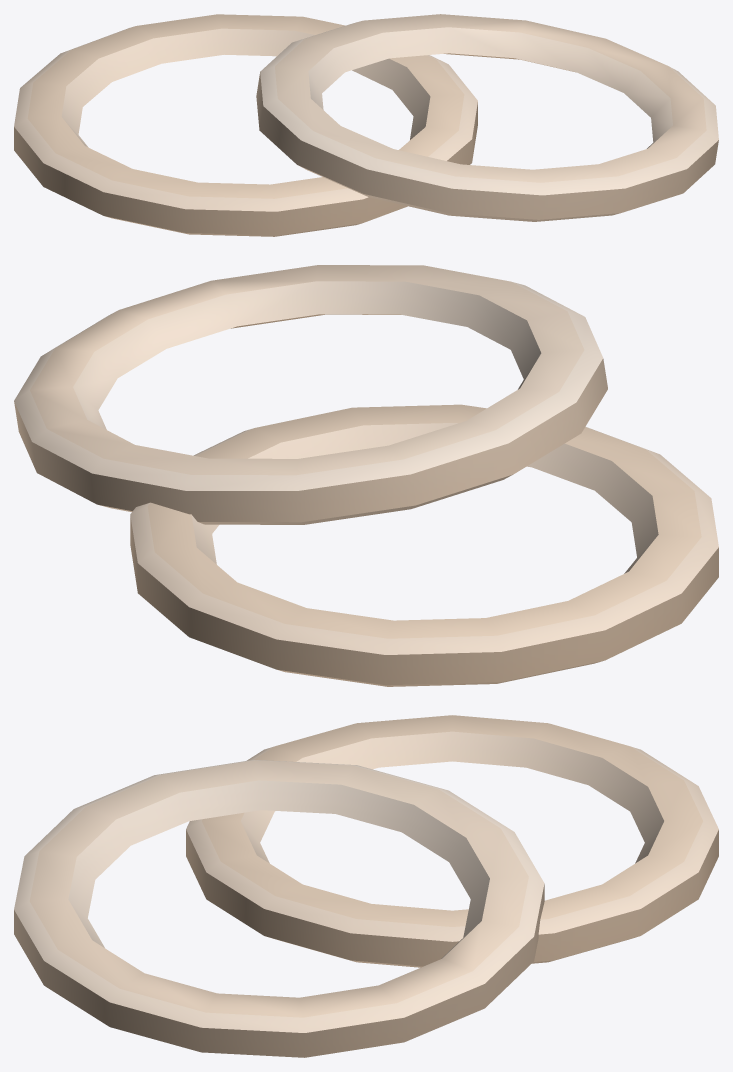
The model's file is Onion rings.glb.
3 renders of one model, top to bottom at view 1: azimuth 30°, elevation 25°; view 2: azimuth 150°, elevation 25°; view 3: azimuth 270°, elevation 25°, orthographic. The views are drawn at different scales.
Parts seen in each view (by area): view 1: food_ingredient_onion_rings; view 2: food_ingredient_onion_rings; view 3: food_ingredient_onion_rings.
Part boxes in pixels (bbox=[...]): food_ingredient_onion_rings: bbox=[14, 14, 718, 236]; food_ingredient_onion_rings: bbox=[14, 265, 718, 686]; food_ingredient_onion_rings: bbox=[14, 715, 718, 1057].
Bounding box in the file's own units: 0.7758 × 0.1064 × 0.7296.
Materials: 1 (1 with a texture image).
